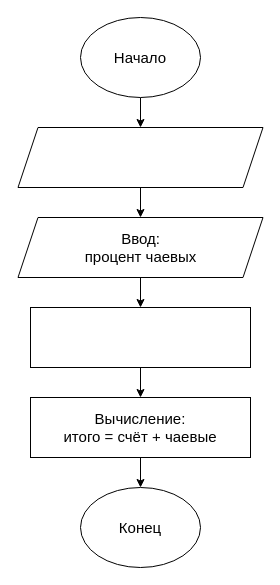
Some shapes in this 280 by 585 pixel diagram are drawn without their labels. Each missing label, with the centre of its shape:
"Ввод: сумма счёта" goes at [140,157].
"Вычисление: чаевые = счёт х процент / 100" goes at [140,337].
